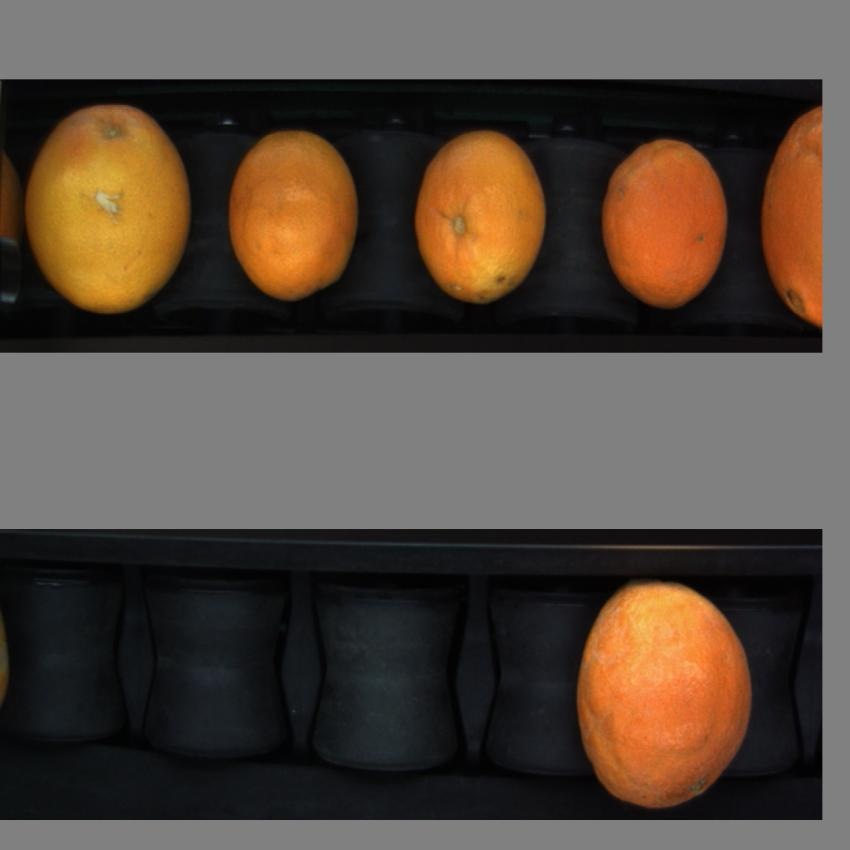Buen estado: (572, 570, 760, 812), (23, 98, 192, 312), (411, 123, 552, 305), (224, 127, 359, 304)
Mal estado: (593, 127, 733, 310), (756, 97, 820, 329)
